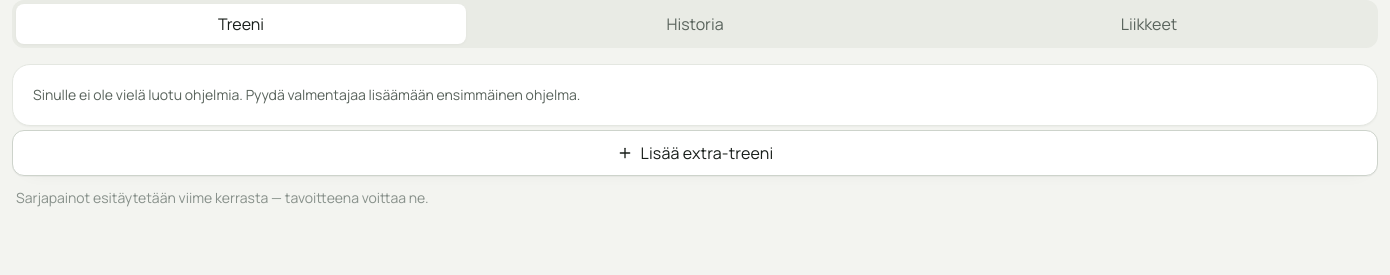
Test: AthleteDashboard history exercise progress › omits exercises with only non-weighted history from the Liikkeet tab
Click the tab "Liikkeet". click: (1149, 24)
box: [924,4,1374,44]
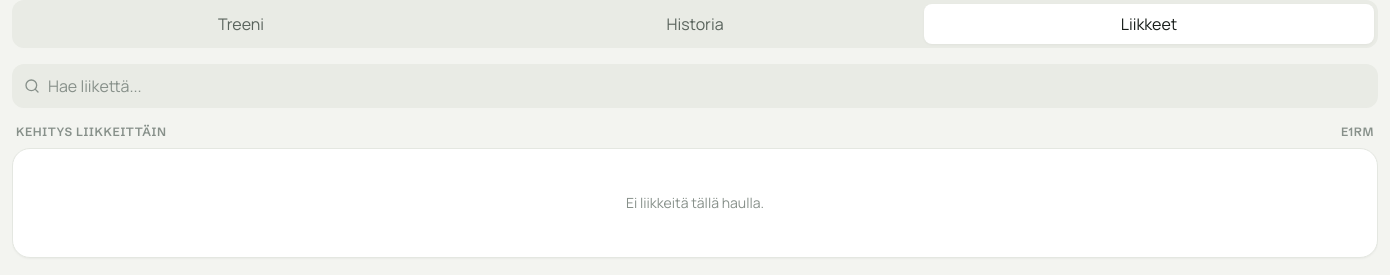
expect the text "Ei liikkeitä tällä haulla." is shown: met, box [626,193,764,212]
